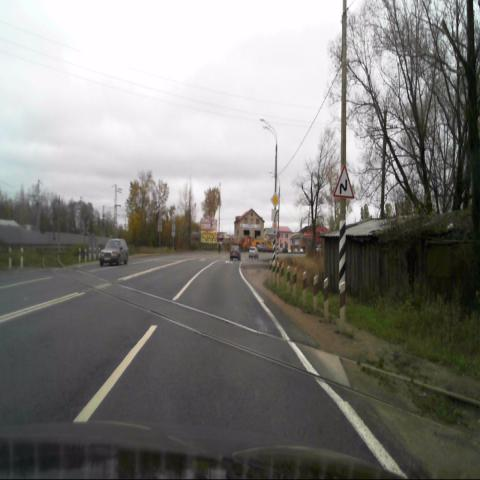1_12: (334, 164, 354, 198)
